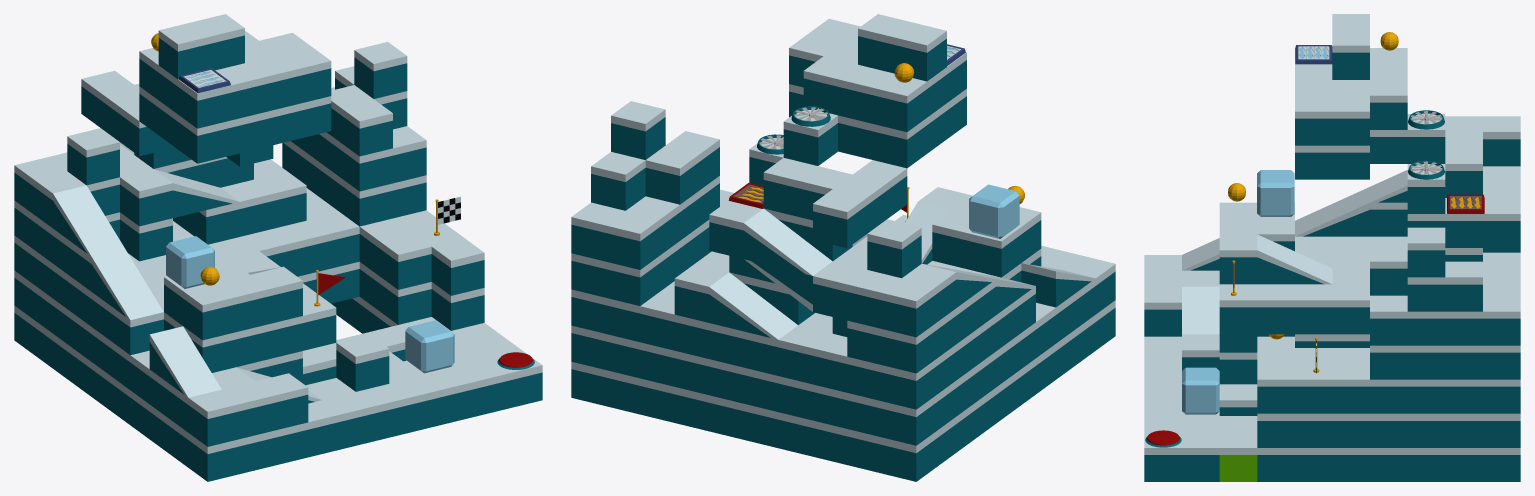
File: Level concept.fbx
3 views of the same model, side by side, from view 1: azimuth 30°, elevation 25°; view 2: azimuth 150°, elevation 25°; view 3: azimuth 270°, elevation 25° (orthographic). The views are drawn at different scales.
Parts seen in each view (by area): view 1: pCube208; view 2: pCube208; view 3: pCube208.
Boxes of the visible parts, bbox=[...] form: pCube208: bbox=[14, 14, 542, 481]; pCube208: bbox=[571, 14, 1115, 481]; pCube208: bbox=[1144, 14, 1520, 481].
Size of the model in its own units: 1019 by 1000 by 1000.
